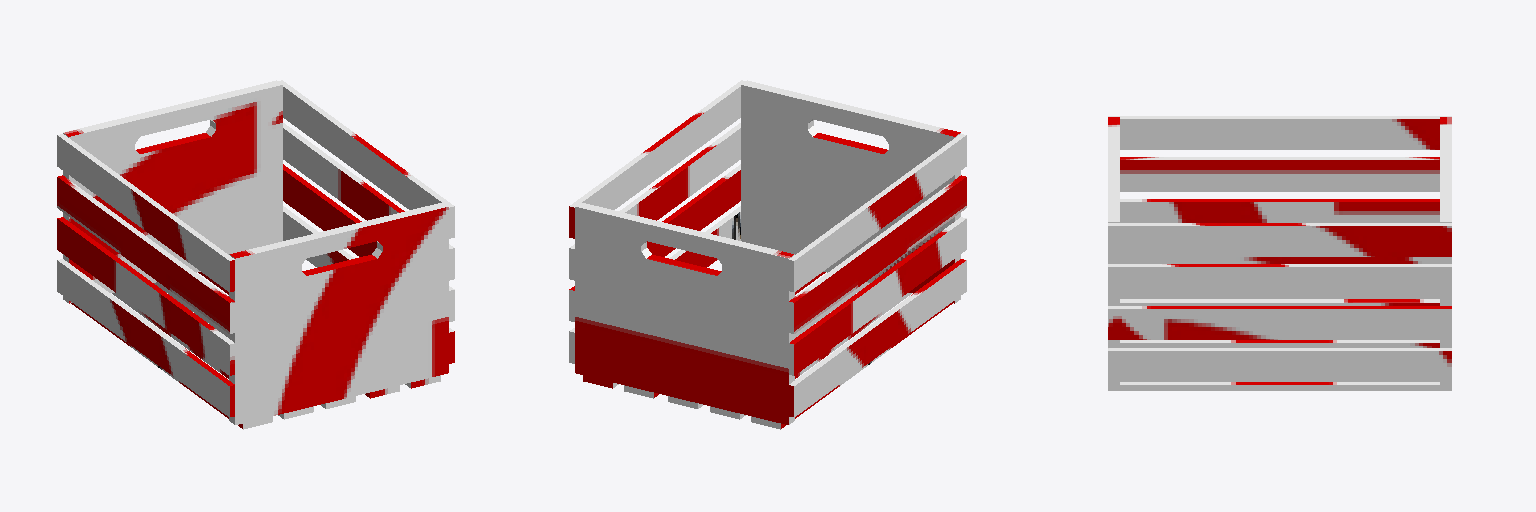
3 views of the same model, side by side, from view 1: azimuth 30°, elevation 25°; view 2: azimuth 150°, elevation 25°; view 3: azimuth 270°, elevation 25° (orthographic).
Visible parts, largest first — view 1: woodenbox; view 2: woodenbox; view 3: woodenbox.
Part boxes in pixels (left/top/right/bottom): woodenbox: left=57, top=80, right=454, bottom=429; woodenbox: left=569, top=80, right=966, bottom=429; woodenbox: left=1108, top=116, right=1451, bottom=390.
Bounding box in the file's own units: 0.3532 × 0.2591 × 0.4682.
1 materials, 1 textured.